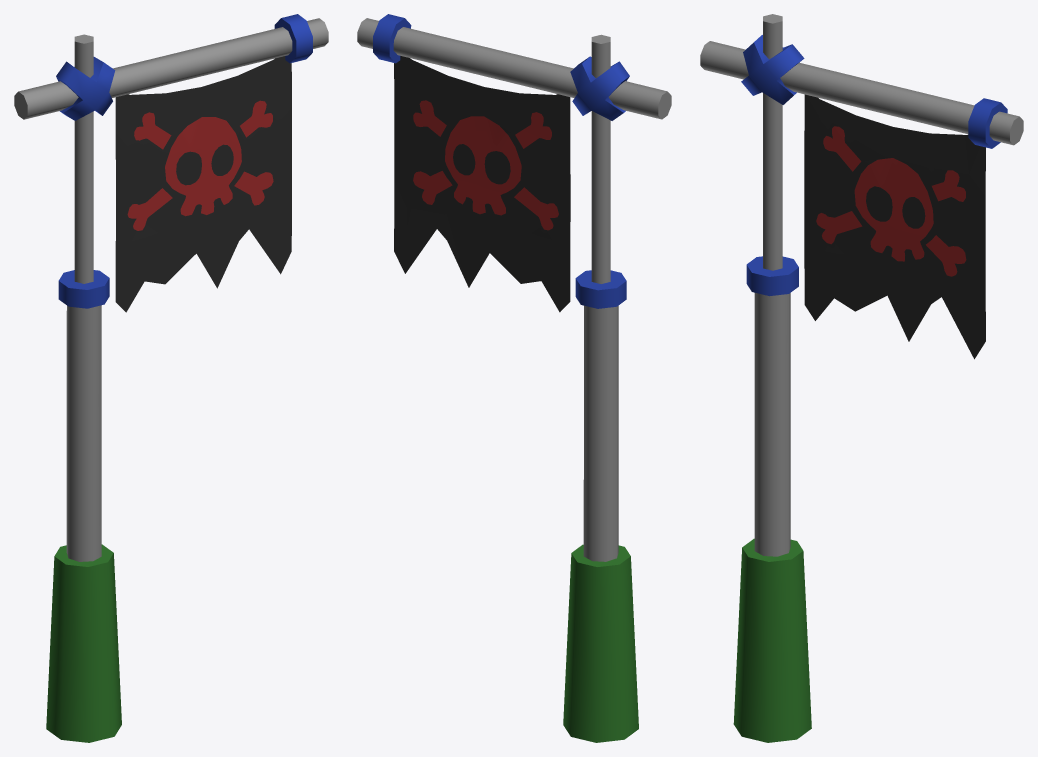
The model's file is Pirate_Flag_mm.fbx.
The picture shows the model from 3 angles, left to right: view 1: azimuth 30°, elevation 25°; view 2: azimuth 150°, elevation 25°; view 3: azimuth 330°, elevation 25°; orthographic projection. The views are drawn at different scales.
Visible parts, largest first — view 1: Pirate_Flag; view 2: Pirate_Flag; view 3: Pirate_Flag.
Boxes of the visible parts, x1,y1,x2,y2 form: Pirate_Flag: [14, 14, 328, 742]; Pirate_Flag: [357, 14, 671, 742]; Pirate_Flag: [700, 14, 1023, 742].
Size of the model in its own units: 169 by 368 by 34.37.
